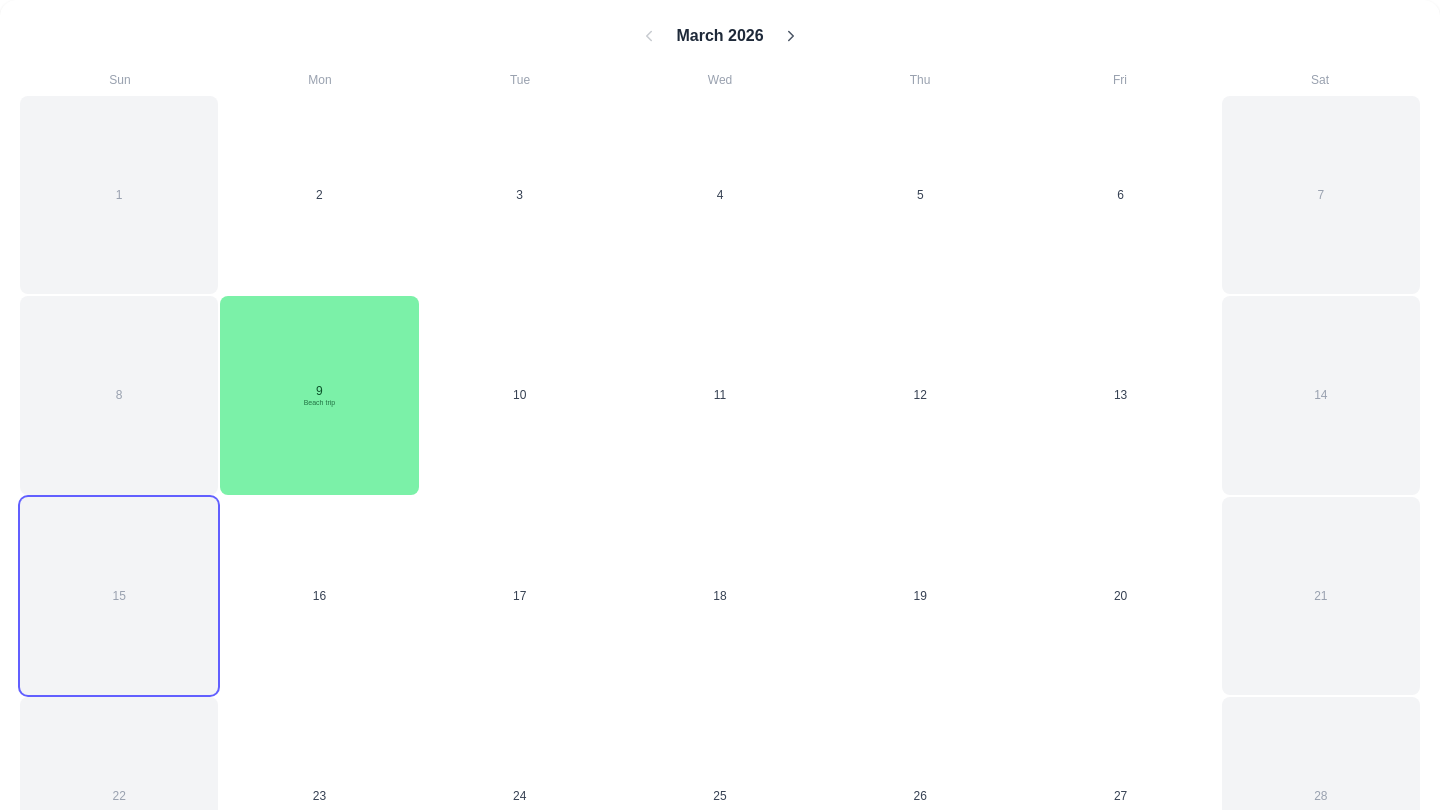
Scenario: CalendarView — leave popover on click › closes the popover when the close (X) button is clicked
The width and height of the screenshot is (1440, 810).
Click the text "9" at (319,391), box [316,383,323,399]
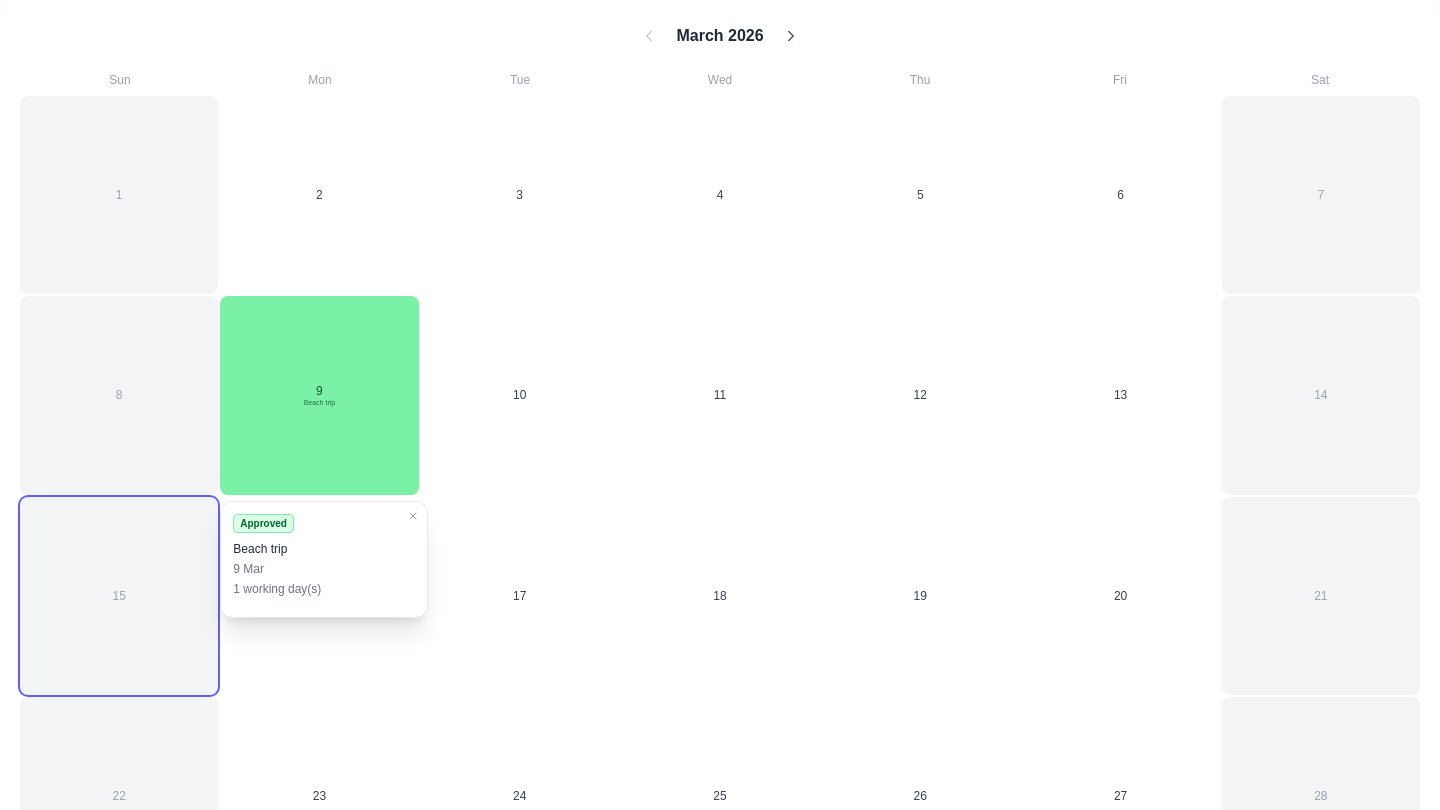
Expected: the tooltip "Approved Beach trip 9 Mar 1 working day(s)" is shown, [220,501,428,618]
Click the button named "Close" at (413,516), box [407,510,419,522]
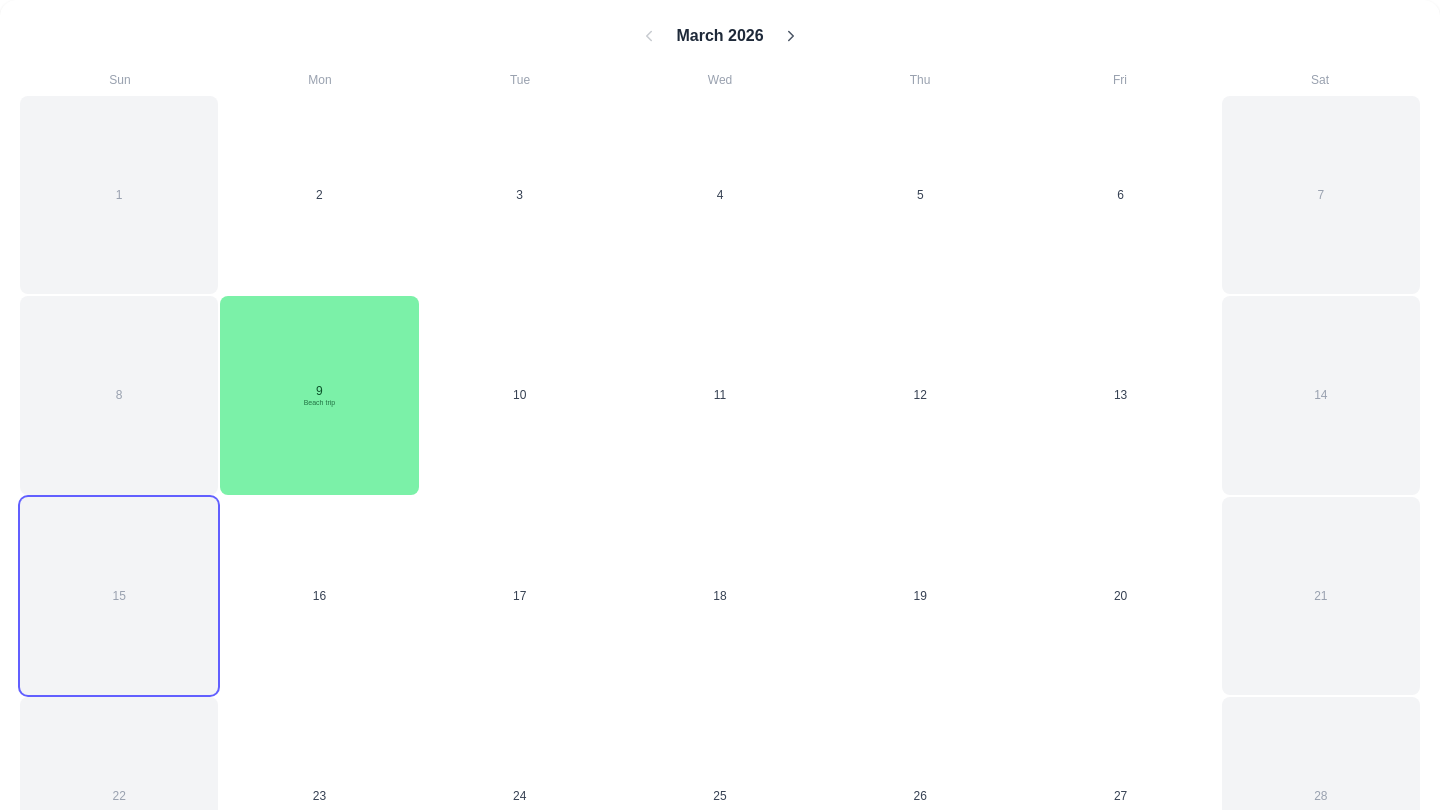
Expected: the tooltip "Approved Beach trip 9 Mar 1 working day(s)" is gone
